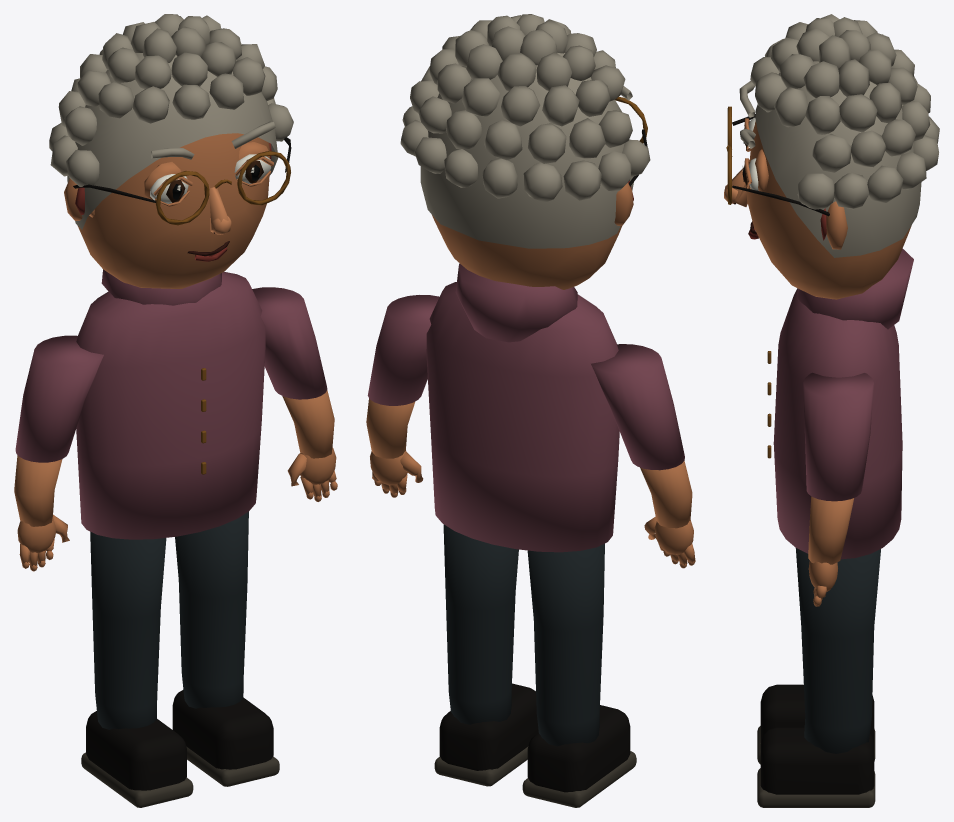
File: patient-42.glb
3 views of the same model, side by side, from view 1: azimuth 30°, elevation 25°; view 2: azimuth 150°, elevation 25°; view 3: azimuth 270°, elevation 25° (orthographic).
Visible parts, largest first — view 1: Head, Body, LegL, LegR, ArmL, ArmR; view 2: Head, Body, LegL, LegR, ArmL, ArmR; view 3: Head, LegR, Body, ArmR, LegL.
Boxes of the visible parts, x1,y1,x2,y2 form: Head: (49,14,293,305); Body: (76,272,265,539); LegL: (81,531,193,807); LegR: (172,511,279,786); ArmL: (14,335,103,571); ArmR: (252,287,337,501); Head: (400,14,650,342); Body: (426,282,619,552); LegL: (522,543,636,807); LegR: (434,524,538,786); ArmL: (591,344,695,568); ArmR: (366,295,439,497); Head: (724,14,939,329); LegR: (757,548,880,807); Body: (767,288,902,559); ArmR: (803,372,873,606); LegL: (757,684,875,764).
Bounding box in the file's own units: 0.6802 × 1.53 × 0.3998.
